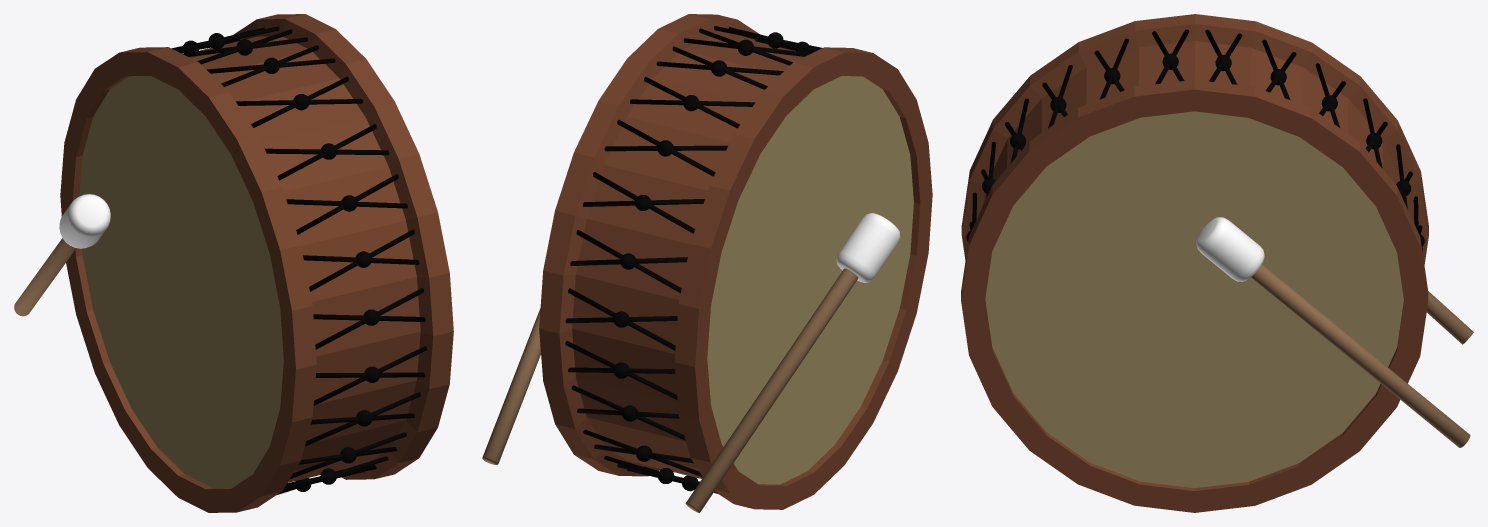
The model's file is Davul 1 .fbx.
3 views of the same model, side by side, from view 1: azimuth 30°, elevation 25°; view 2: azimuth 150°, elevation 25°; view 3: azimuth 270°, elevation 25° (orthographic).
Visible parts, largest first — view 1: Davul, sağ tokmak; view 2: Davul, sağ tokmak, sol tokmak; view 3: Davul, sol tokmak, sağ tokmak.
Boxes of the visible parts, bbox=[...] form: Davul: bbox=[60, 14, 453, 512]; sağ tokmak: bbox=[14, 194, 110, 316]; Davul: bbox=[539, 14, 932, 509]; sağ tokmak: bbox=[685, 213, 900, 512]; sol tokmak: bbox=[482, 308, 540, 464]; Davul: bbox=[961, 14, 1428, 512]; sol tokmak: bbox=[1196, 217, 1470, 447]; sağ tokmak: bbox=[1426, 291, 1473, 344].
Size of the model in its own units: 38.06 by 50.13 by 55.04.
